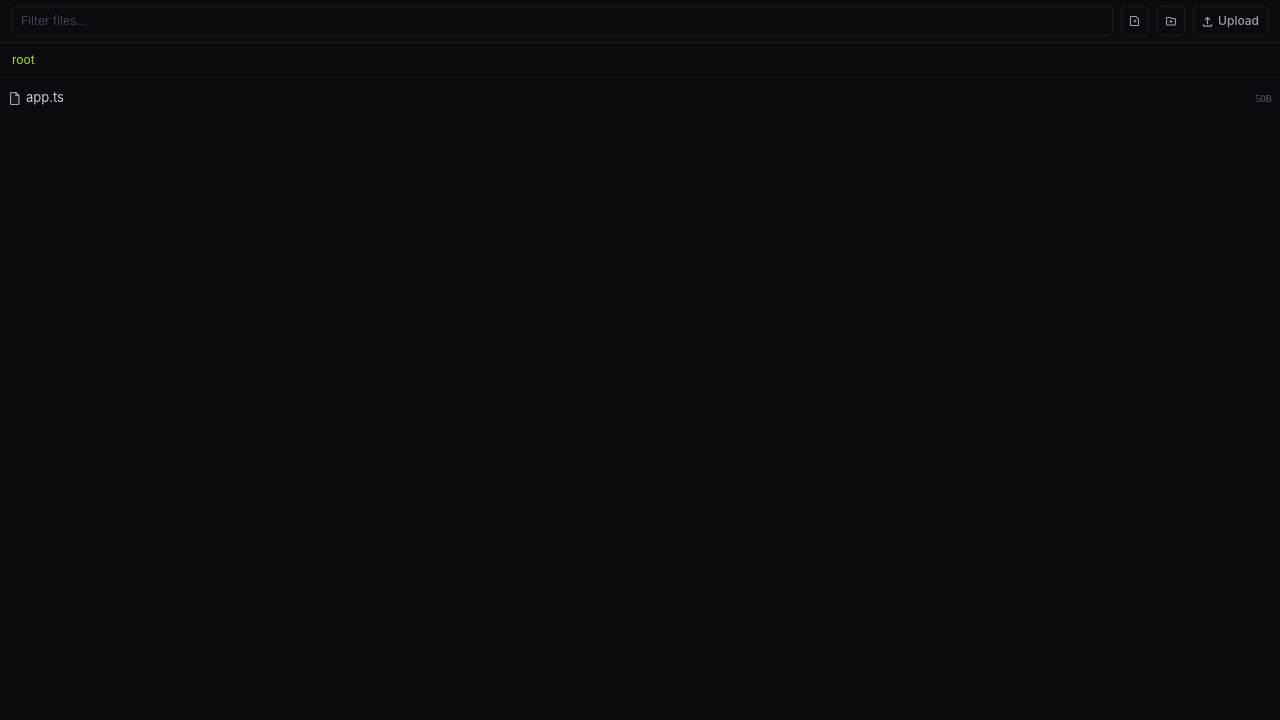
Test: FileTree › hides context menu on outside click
Expected: the text "app.ts" is shown, 26,88 -> 64,108
Right-click the list item "app.ts": (45, 97) 8,89 -> 1272,105
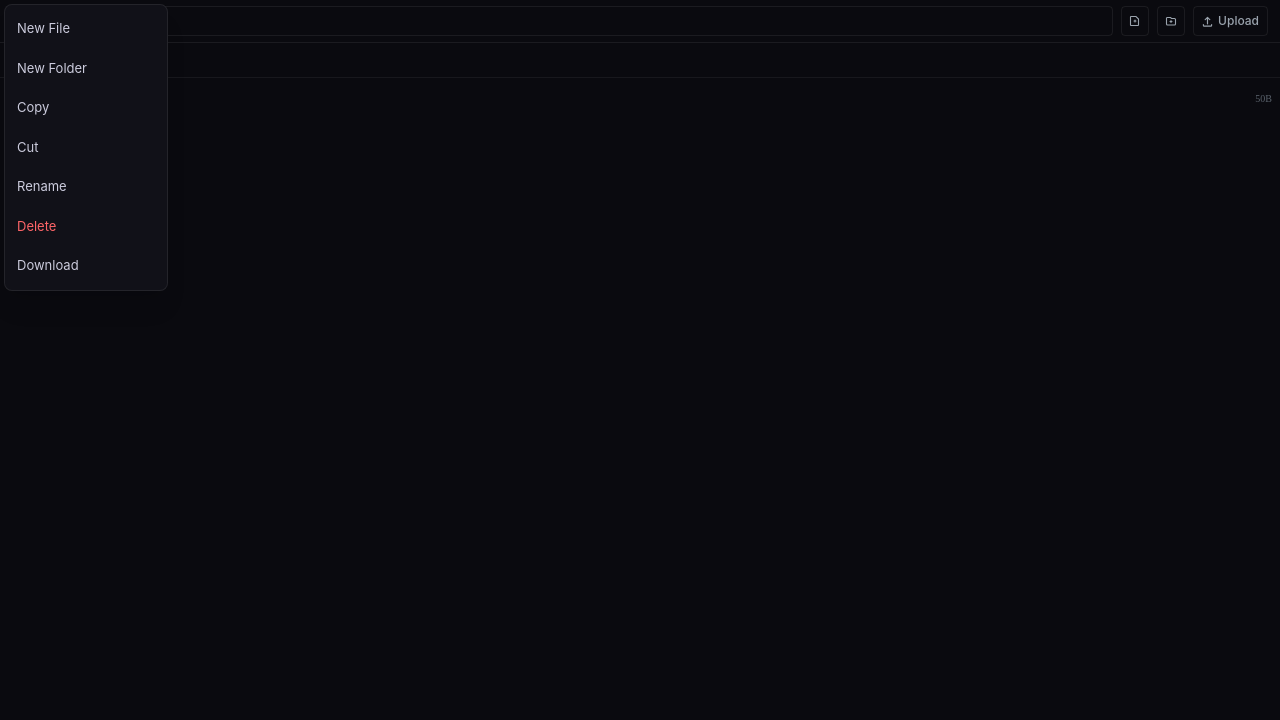
Expected: the element with test id "context-menu" is shown, 4,4 -> 168,290
Click the element that starts with "Upload": (640, 360) 0,0 -> 1279,719
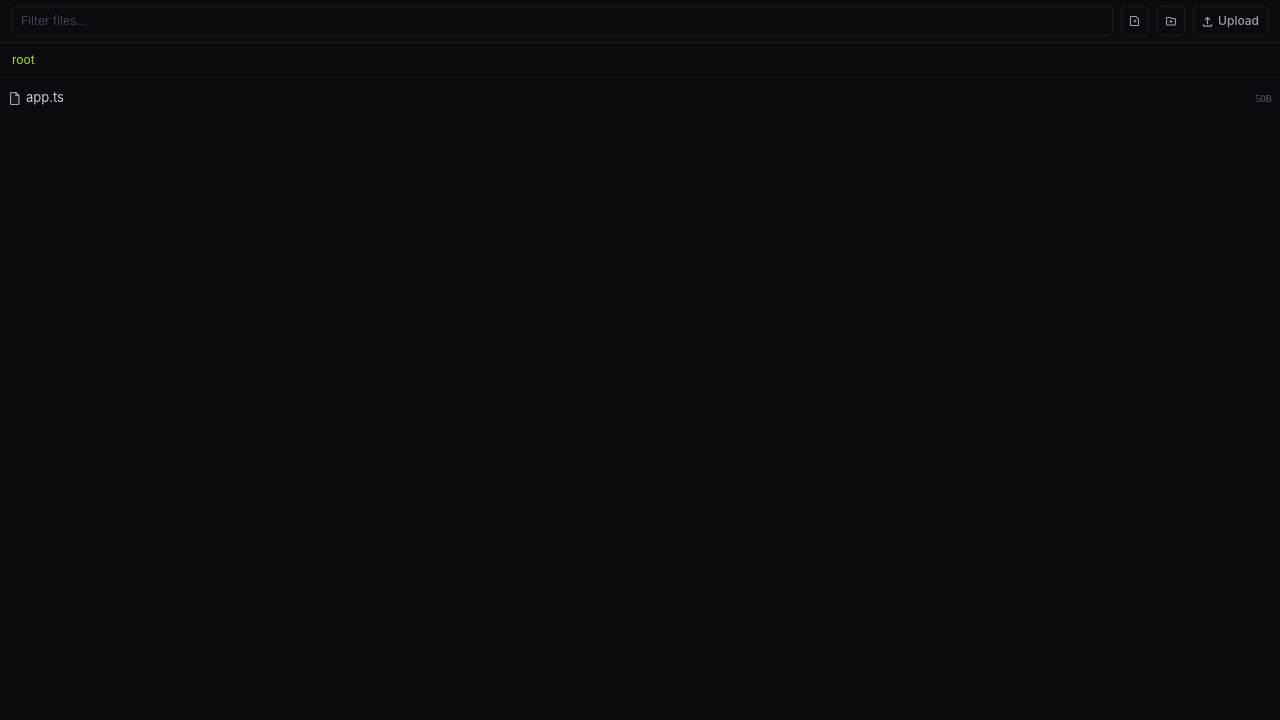
Expected: the element with test id "context-menu" is gone
